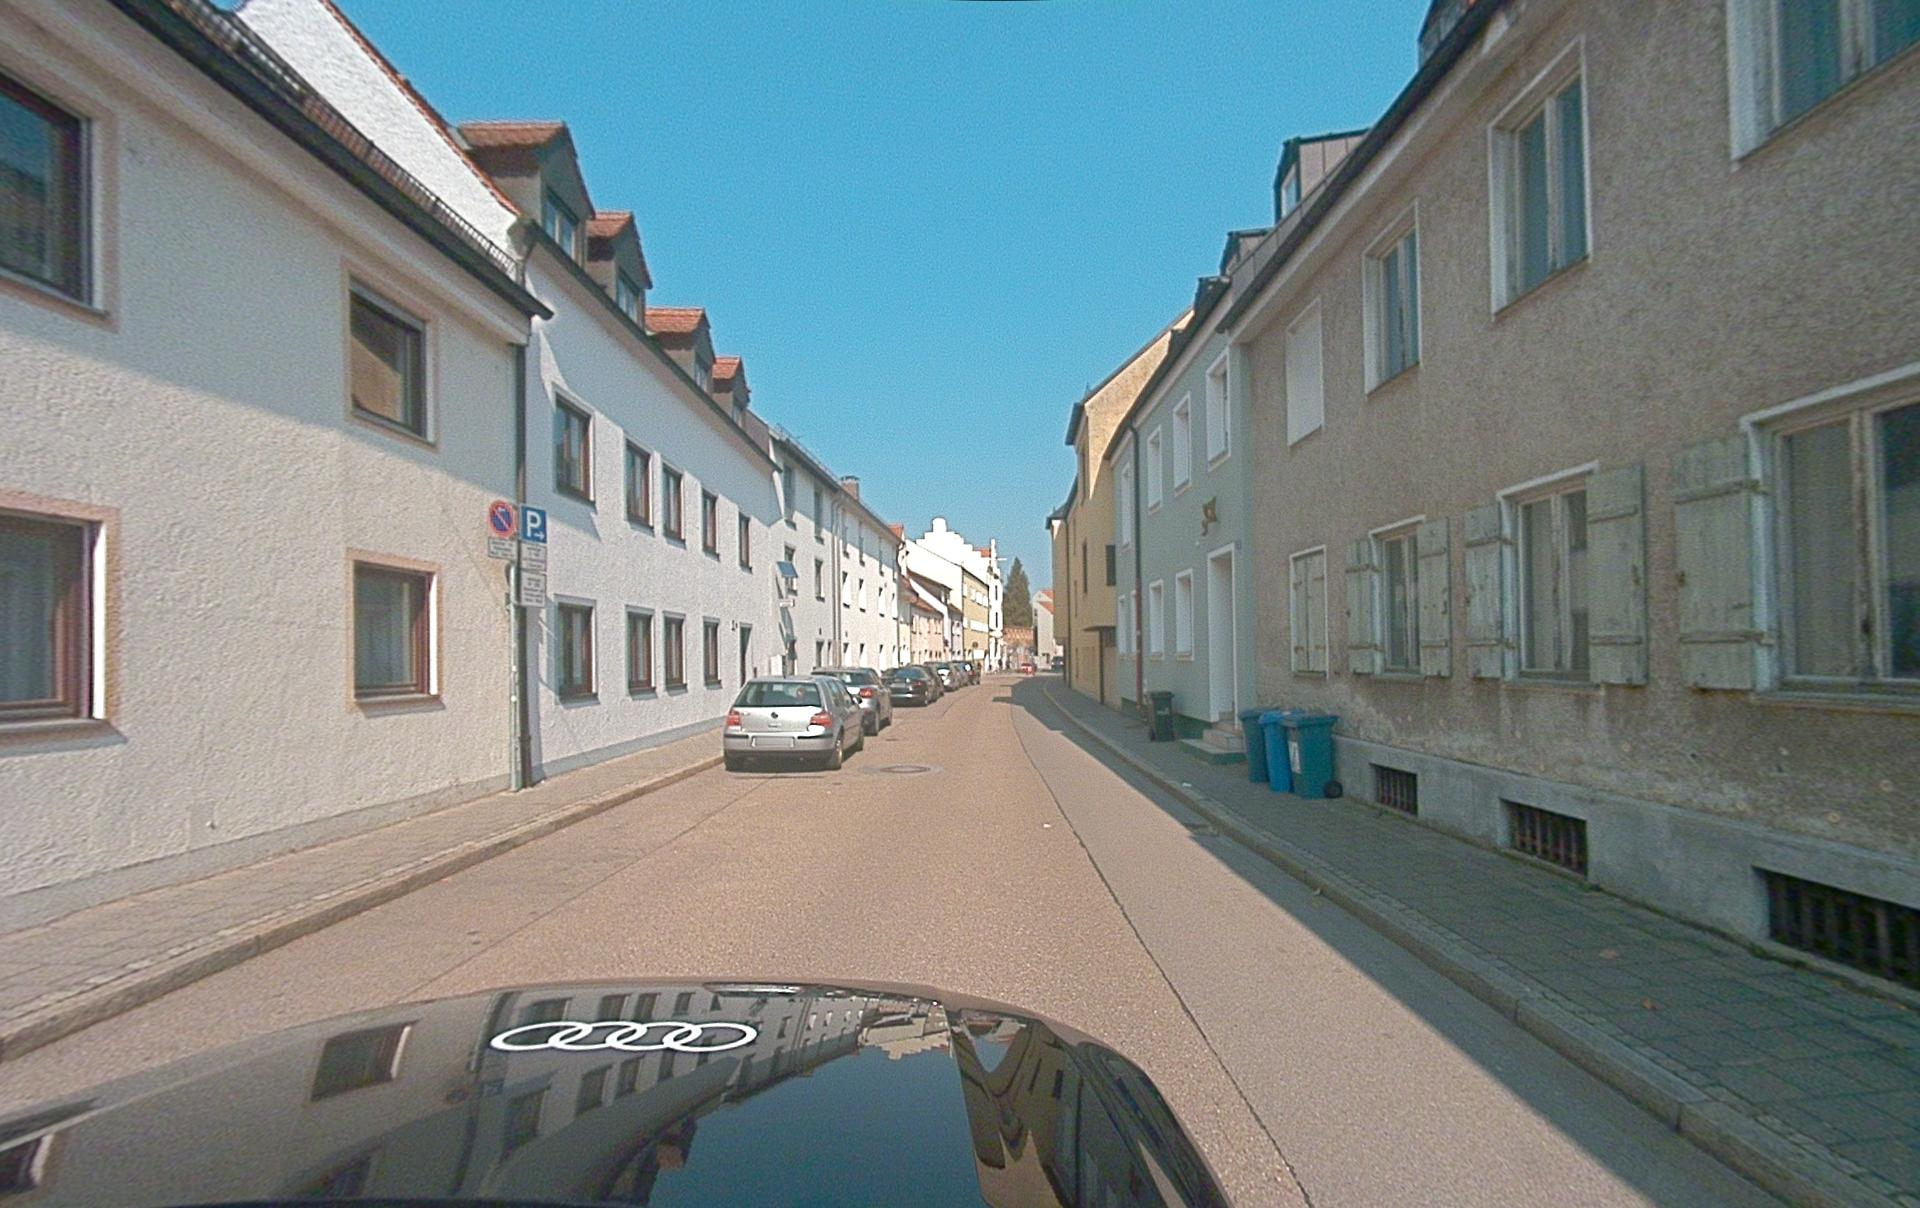car: (1, 976, 1235, 1207), (723, 676, 866, 771), (811, 666, 893, 736), (882, 666, 943, 706)
traffic sign: (516, 504, 549, 609)
